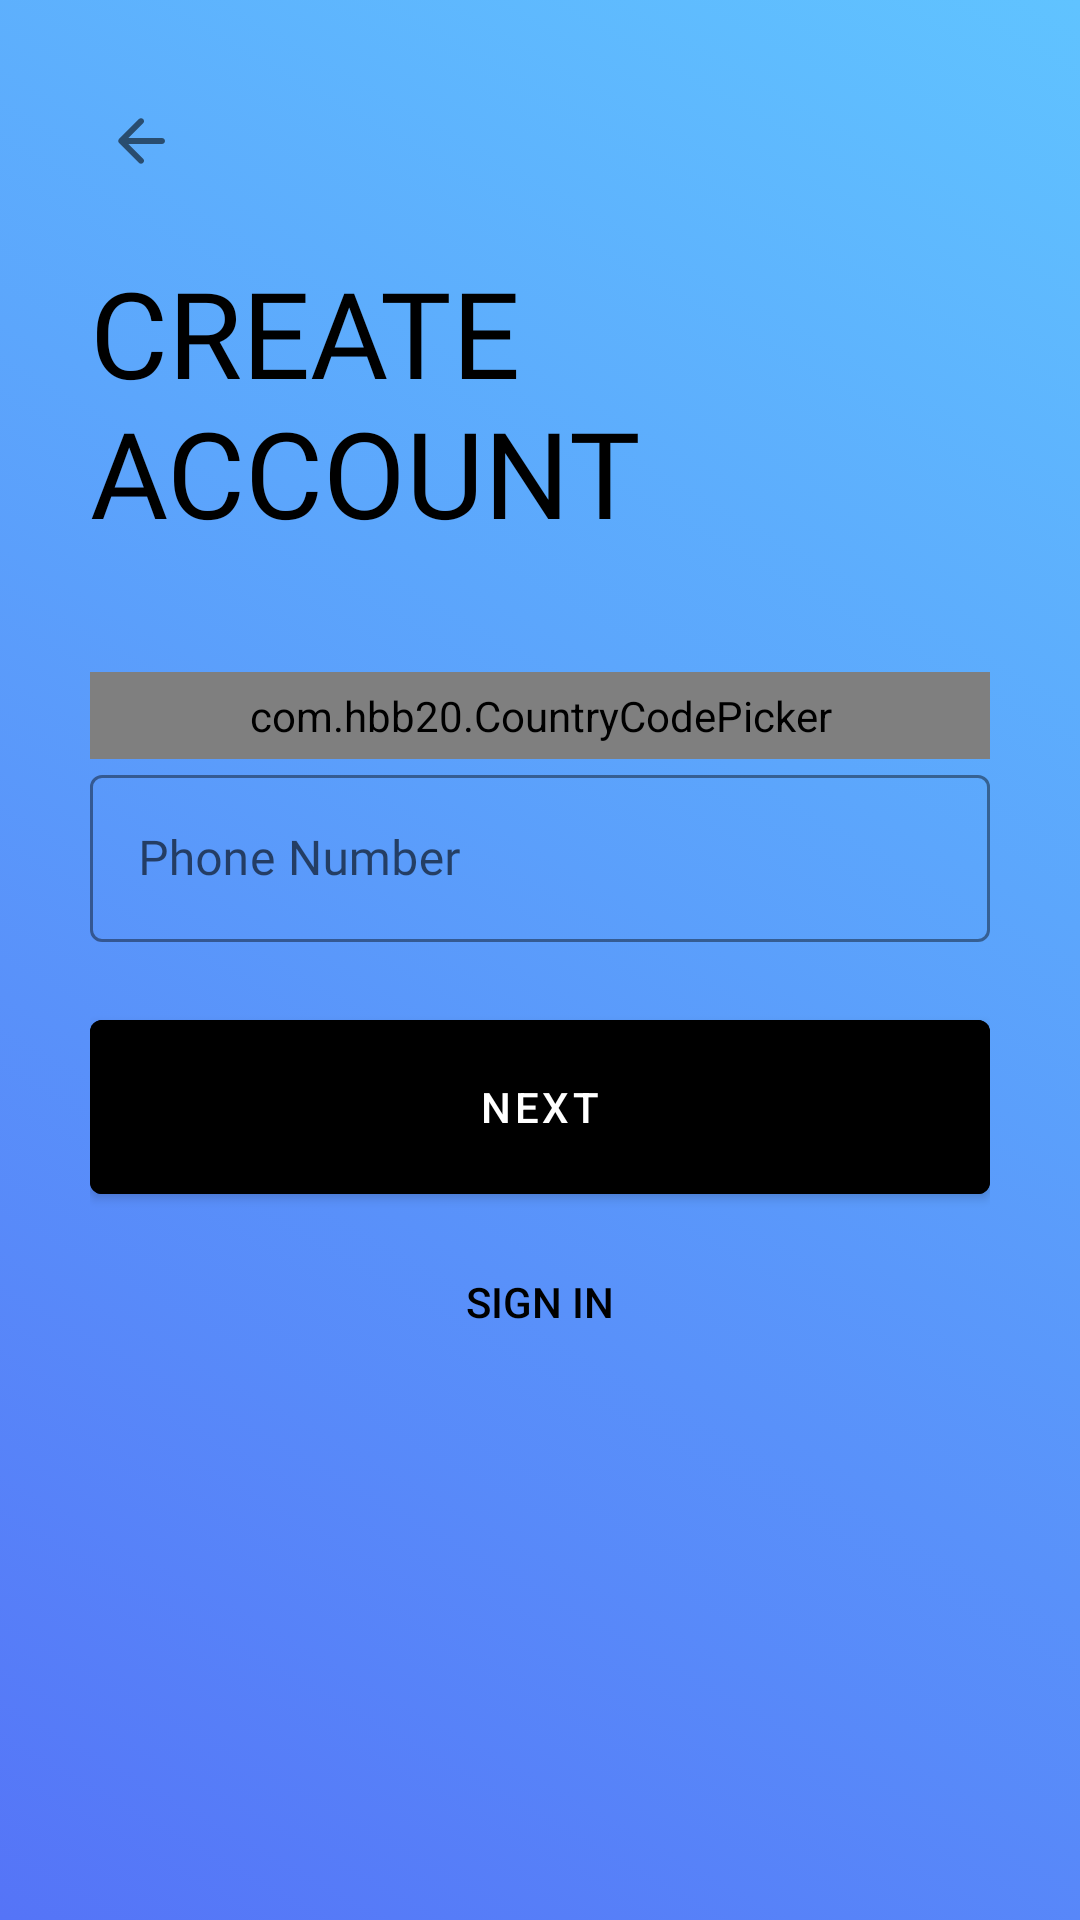

Where icons sit on this 1080*1920 app screen, as (x1, y1, x2, y2):
back: (118, 118, 165, 164)
